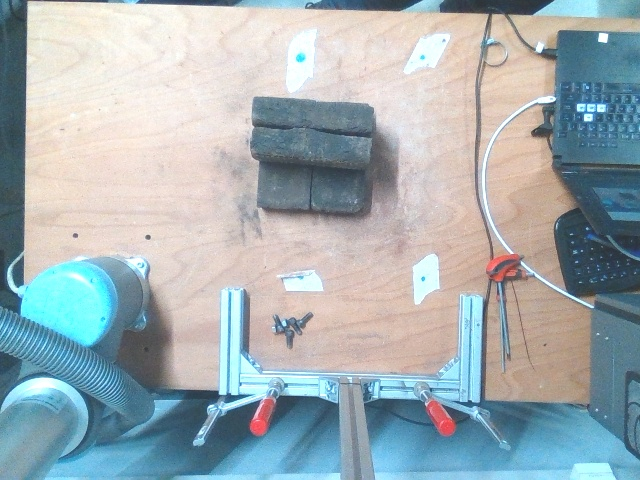brick-side: (252, 127, 367, 161), (256, 94, 371, 128)
